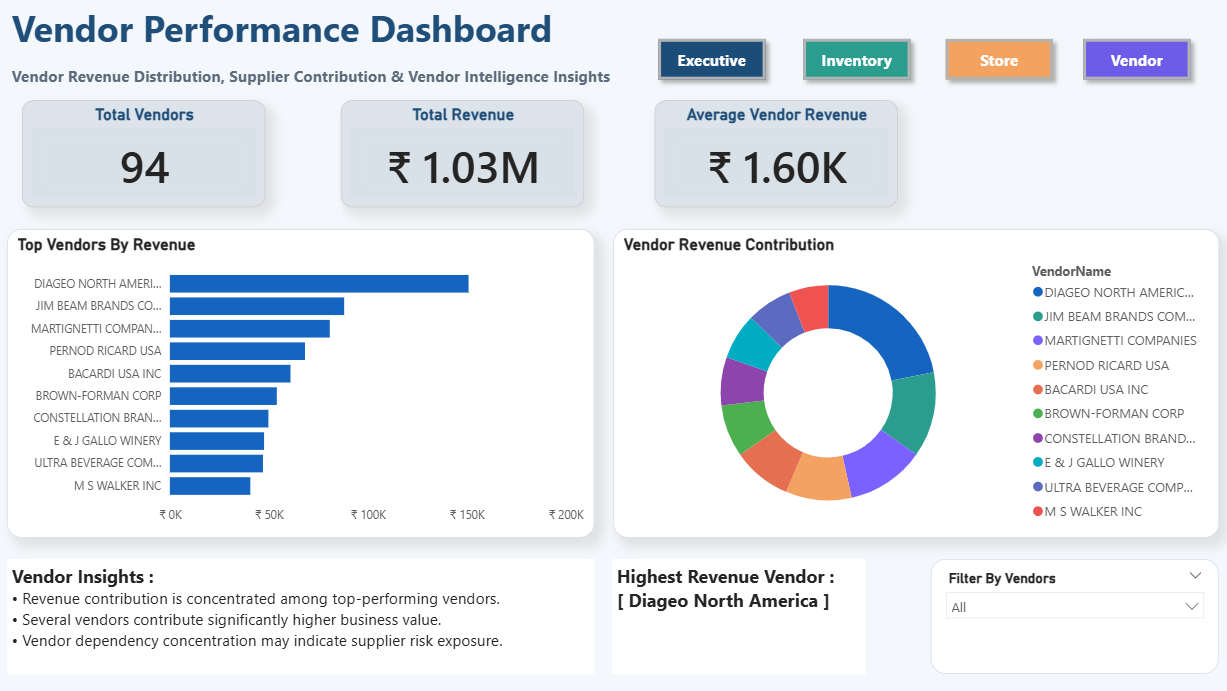

What the dashboard file says about the page in this screenshot:
{"tool":"powerbi","page":{"name":"Vendor Performance","canvas":[1280,720],"ordinal":3},"visuals":[{"type":"textbox","box":[10.4,0,594.6,64.1],"z":0},{"type":"textbox","box":[10.4,64.1,646.6,38.1],"z":1000},{"type":"cardVisual","title":"Total Vendors","fields":{"Data":["Count(vendor_summary.VendorName)"]},"box":[26,105.7,253.1,110.9],"z":2000},{"type":"cardVisual","title":"Total Revenue","fields":{"Data":["Sum(vendor_summary.Total_Revenue)"]},"box":[357.1,105.7,253.1,110.9],"z":3000},{"type":"cardVisual","title":"Average Vendor Revenue","fields":{"Data":["Sum(vendor_summary.Average_Revenue_Per_Unit)"]},"box":[683,105.7,253.1,110.9],"z":4000},{"type":"barChart","title":"Top Vendors By Revenue","fields":{"Category":["vendor_summary.VendorName"],"Y":["Sum(vendor_summary.Total_Revenue)"]},"box":[10.4,239.2,610.2,320.7],"z":5000},{"type":"donutChart","title":"Vendor Revenue Contribution","fields":{"Category":["vendor_summary.VendorName"],"Y":["Sum(vendor_summary.Total_Revenue)"]},"box":[639.7,239.2,629.3,320.7],"z":6000},{"type":"slicer","fields":{"Values":["vendor_summary.VendorName"]},"box":[969.7,582.1,299.6,119],"z":7000},{"type":"textbox","box":[10.4,582.5,610.2,119.6],"z":8000},{"type":"textbox","box":[639.5,582.1,264.1,119.8],"z":9000},{"type":"actionButton","box":[678.2,32.1,129.5,60.3],"z":10000},{"type":"actionButton","box":[828.2,32.1,129.5,60.3],"z":11000},{"type":"actionButton","box":[1119.2,32.1,129.5,60.3],"z":12000},{"type":"actionButton","box":[976.9,32.1,129.5,60.3],"z":13000}]}

Visuals, with their boxes in screenshot pixels (x1, y1, x2, y2), scaled from the page's 1280x720 canvas onto the 1227x691 screenshot:
textbox: x1=10, y1=0, x2=580, y2=62
textbox: x1=10, y1=62, x2=630, y2=98
"Total Vendors" cardVisual: x1=25, y1=101, x2=268, y2=208
"Total Revenue" cardVisual: x1=342, y1=101, x2=585, y2=208
"Average Vendor Revenue" cardVisual: x1=655, y1=101, x2=897, y2=208
"Top Vendors By Revenue" barChart: x1=10, y1=230, x2=595, y2=537
"Vendor Revenue Contribution" donutChart: x1=613, y1=230, x2=1216, y2=537
slicer - vendor_summary.VendorName: x1=930, y1=559, x2=1217, y2=673
textbox: x1=10, y1=559, x2=595, y2=674
textbox: x1=613, y1=559, x2=866, y2=674
actionButton: x1=650, y1=31, x2=774, y2=89
actionButton: x1=794, y1=31, x2=918, y2=89
actionButton: x1=1073, y1=31, x2=1197, y2=89
actionButton: x1=936, y1=31, x2=1061, y2=89
